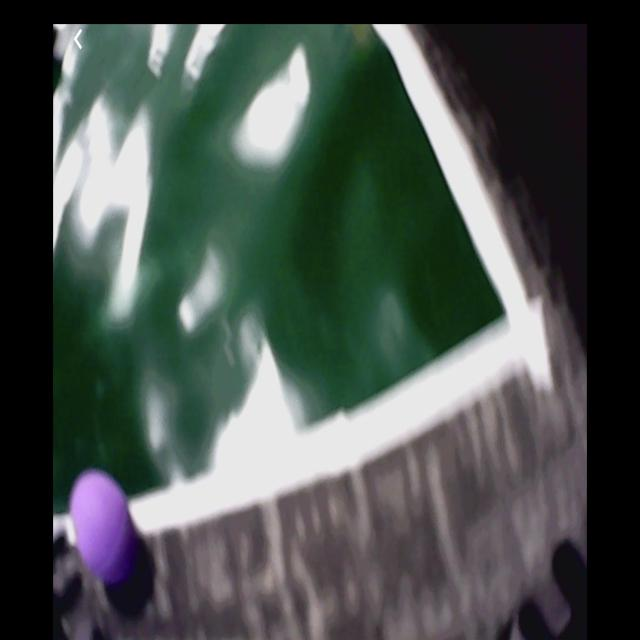ball: (72, 471, 133, 581)
